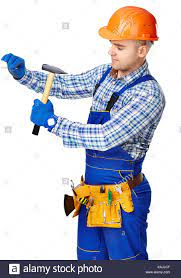Helmet: (97, 3, 171, 44)
No-jacket: (71, 62, 160, 209)
gloves: (28, 99, 60, 132), (3, 52, 28, 82)
